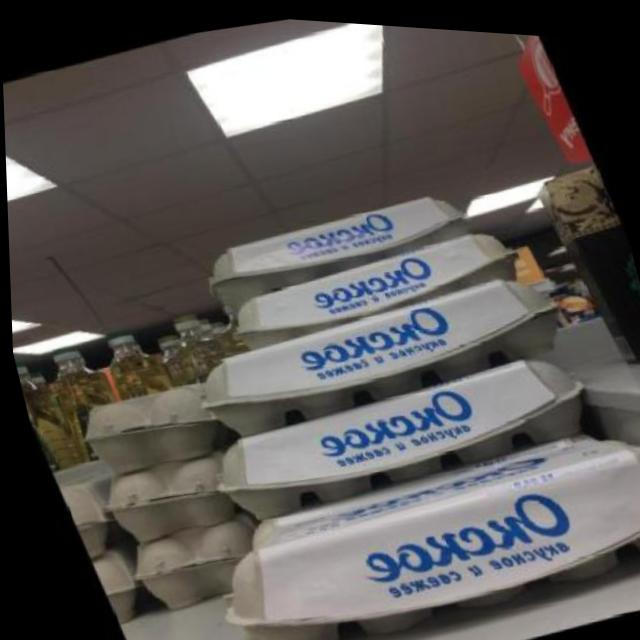Egg: (173, 384, 640, 640), (182, 314, 620, 549), (167, 241, 581, 461), (210, 201, 533, 364), (184, 163, 489, 320), (58, 352, 234, 491), (111, 501, 273, 623), (82, 438, 248, 556), (27, 322, 141, 472), (141, 291, 241, 394), (11, 344, 79, 478), (85, 312, 175, 407)
